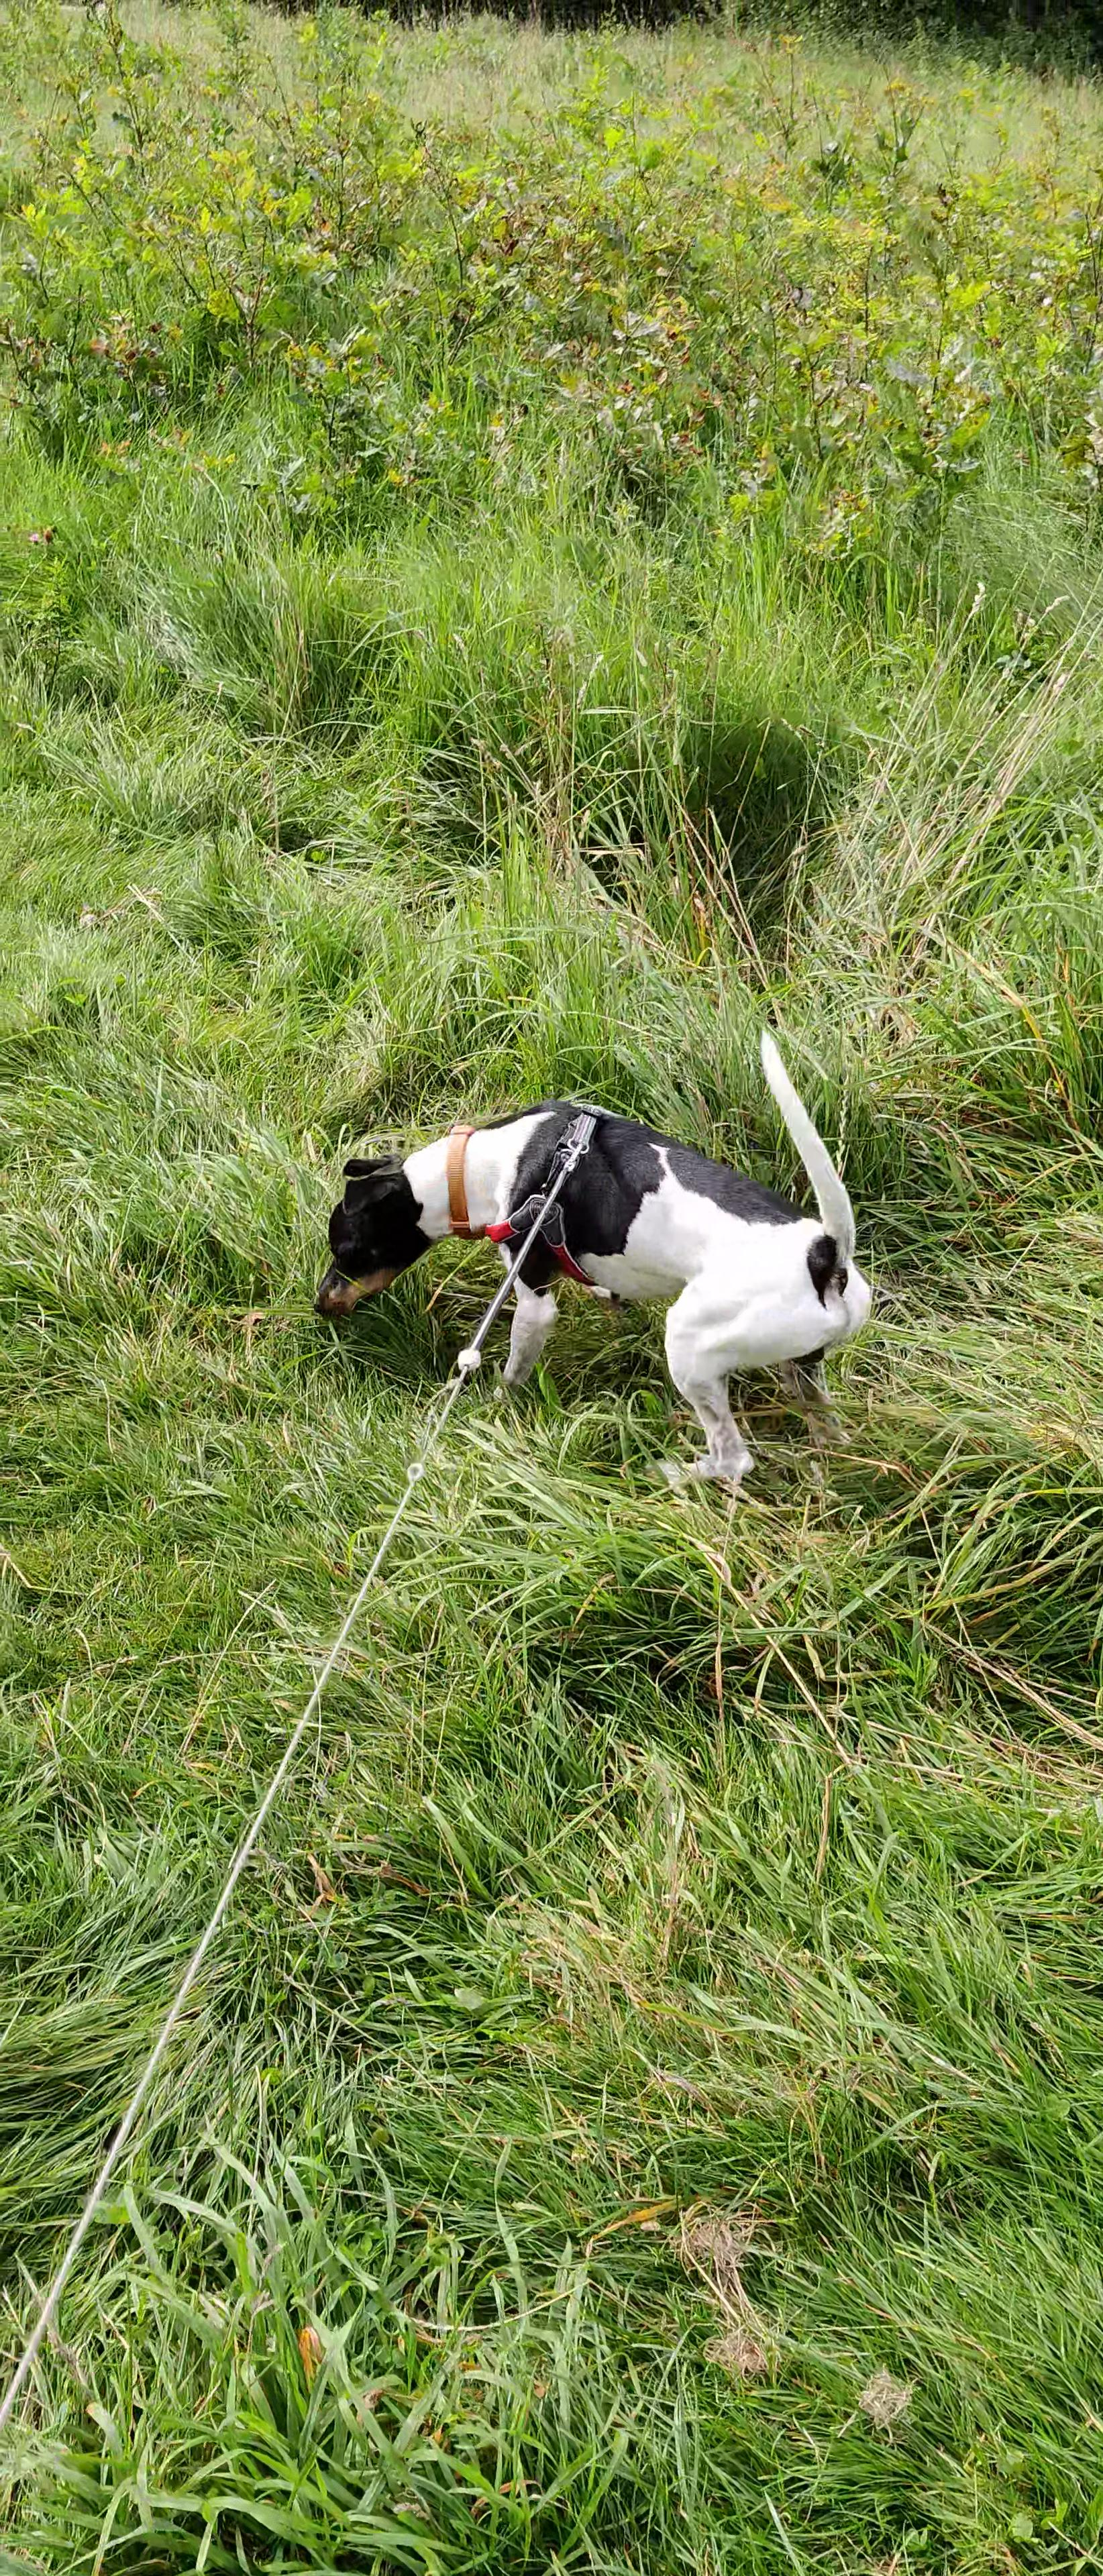Dog: (314, 1009, 891, 1490)
